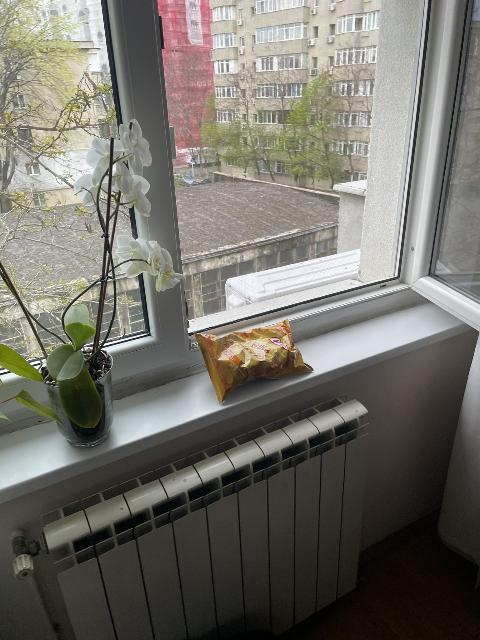Chio Hula Hoops Cheese 70g: (193, 317, 311, 402)
